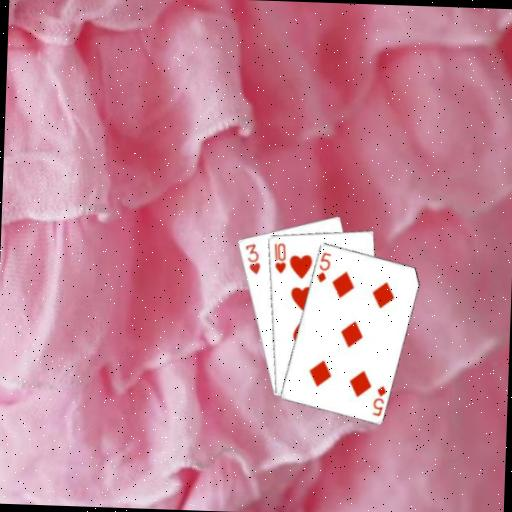10H: (270, 239, 288, 275)
3H: (241, 240, 262, 276)
5D: (313, 248, 332, 284), (369, 381, 388, 417)
